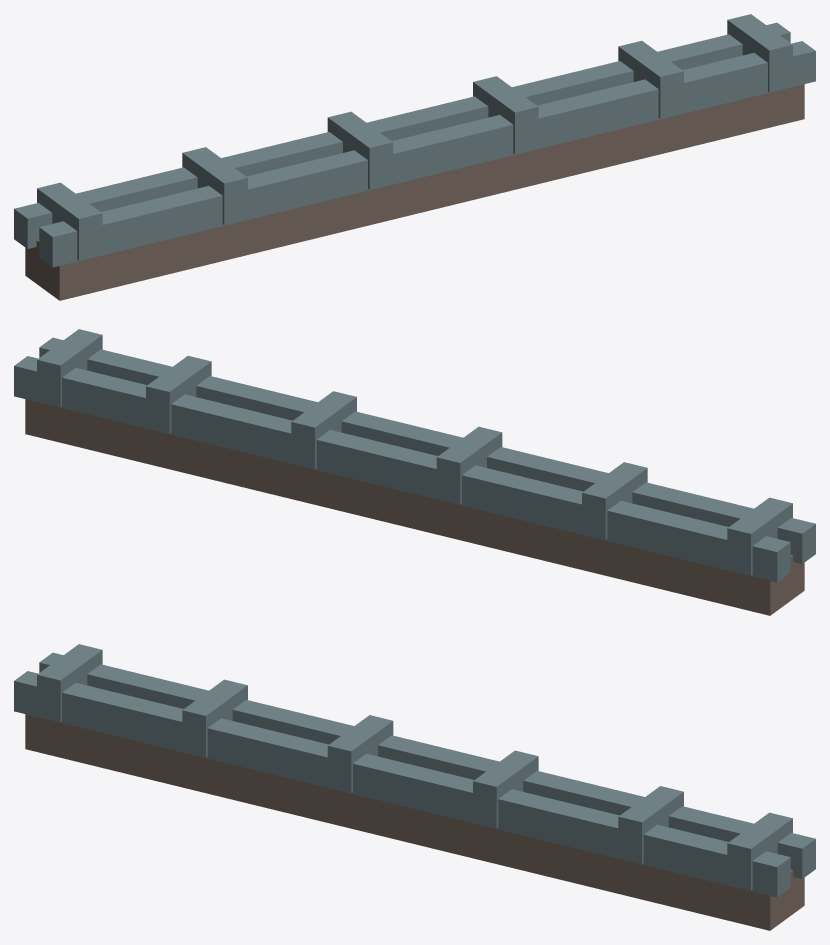
The model's file is cumeeira_jade.glb.
3 views of the same model, one above another, from view 1: azimuth 30°, elevation 25°; view 2: azimuth 150°, elevation 25°; view 3: azimuth 330°, elevation 25° (orthographic).
Visible parts, largest first — view 1: cumeeira_jade_part_000, cumeeira_jade_part_002, cumeeira_jade_part_001, cumeeira_jade_part_005, cumeeira_jade_part_007, cumeeira_jade_part_004, cumeeira_jade_part_003, cumeeira_jade_part_006, cumeeira_jade_part_008; view 2: cumeeira_jade_part_000, cumeeira_jade_part_001, cumeeira_jade_part_002, cumeeira_jade_part_005, cumeeira_jade_part_007, cumeeira_jade_part_004, cumeeira_jade_part_003, cumeeira_jade_part_006, cumeeira_jade_part_008; view 3: cumeeira_jade_part_000, cumeeira_jade_part_002, cumeeira_jade_part_001, cumeeira_jade_part_005, cumeeira_jade_part_006, cumeeira_jade_part_004, cumeeira_jade_part_008, cumeeira_jade_part_007, cumeeira_jade_part_003.
Part boxes in pixels (left/top/right/bottom): cumeeira_jade_part_000: left=25, top=84, right=804, bottom=300; cumeeira_jade_part_002: left=39, top=41, right=815, bottom=267; cumeeira_jade_part_001: left=14, top=22, right=790, bottom=248; cumeeira_jade_part_005: left=327, top=111, right=393, bottom=189; cumeeira_jade_part_007: left=618, top=40, right=683, bottom=118; cumeeira_jade_part_004: left=182, top=147, right=247, bottom=225; cumeeira_jade_part_003: left=37, top=182, right=102, bottom=260; cumeeira_jade_part_006: left=473, top=76, right=538, bottom=154; cumeeira_jade_part_008: left=727, top=14, right=792, bottom=92; cumeeira_jade_part_000: left=25, top=399, right=804, bottom=615; cumeeira_jade_part_001: left=14, top=356, right=790, bottom=582; cumeeira_jade_part_002: left=39, top=337, right=815, bottom=563; cumeeira_jade_part_005: left=436, top=426, right=502, bottom=504; cumeeira_jade_part_007: left=146, top=355, right=211, bottom=433; cumeeira_jade_part_004: left=582, top=462, right=647, bottom=540; cumeeira_jade_part_003: left=727, top=497, right=792, bottom=575; cumeeira_jade_part_006: left=291, top=391, right=356, bottom=469; cumeeira_jade_part_008: left=37, top=329, right=102, bottom=407; cumeeira_jade_part_000: left=25, top=714, right=804, bottom=930; cumeeira_jade_part_002: left=14, top=671, right=790, bottom=897; cumeeira_jade_part_001: left=39, top=652, right=815, bottom=878; cumeeira_jade_part_005: left=327, top=715, right=393, bottom=793; cumeeira_jade_part_006: left=473, top=750, right=538, bottom=828; cumeeira_jade_part_004: left=182, top=679, right=247, bottom=757; cumeeira_jade_part_008: left=727, top=812, right=792, bottom=890; cumeeira_jade_part_007: left=618, top=786, right=683, bottom=863; cumeeira_jade_part_003: left=37, top=644, right=102, bottom=722.
Bounding box in the file's own units: 4.2 × 0.425 × 0.4.
